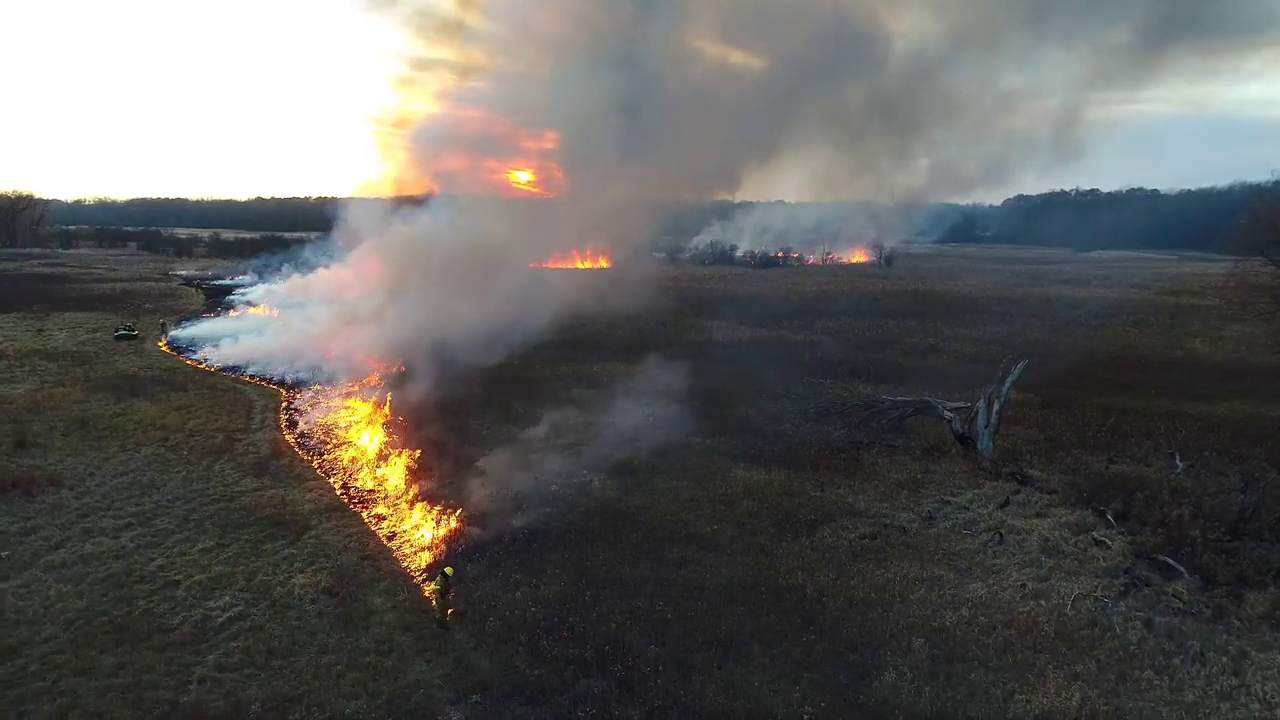forest_fire: (160, 340, 462, 590), (528, 248, 612, 266), (227, 305, 277, 314), (849, 249, 869, 262), (426, 592, 429, 595)
